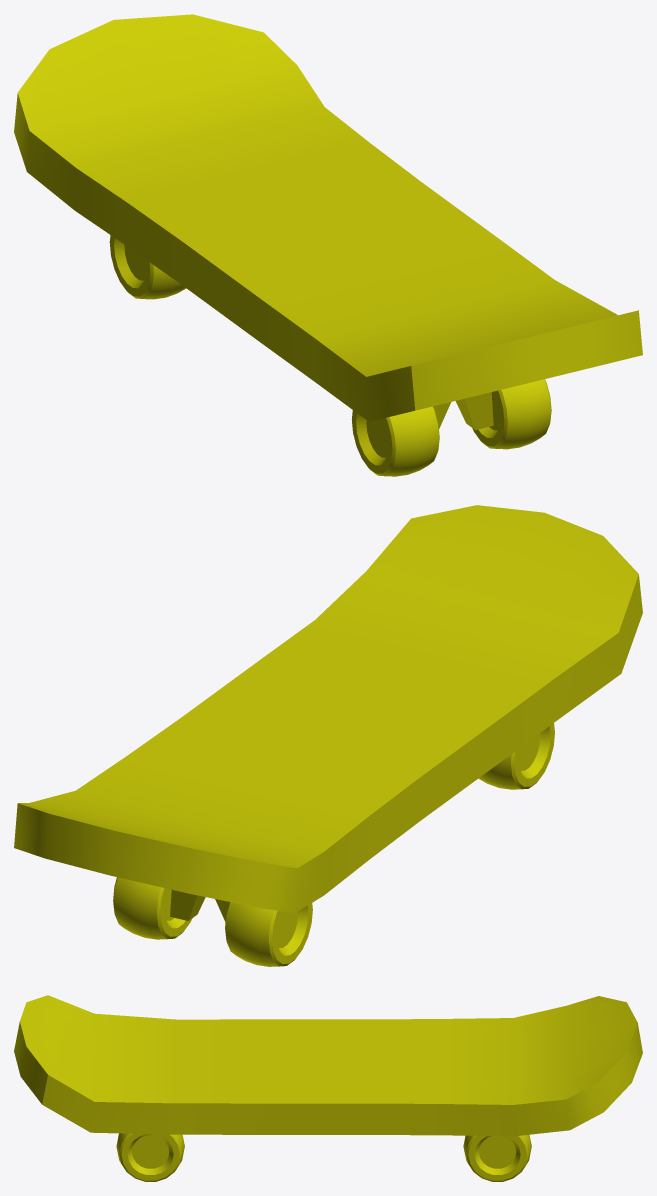
Rendered from mount_skateboard00.glb.
3 renders of one model, top to bottom at view 1: azimuth 30°, elevation 25°; view 2: azimuth 150°, elevation 25°; view 3: azimuth 270°, elevation 25°, orthographic. The views are drawn at different scales.
Parts seen in each view (by area): view 1: skateboard; view 2: skateboard; view 3: skateboard.
Part boxes in pixels (<box>): skateboard: <box>14,14,642,476</box>; skateboard: <box>14,505,642,966</box>; skateboard: <box>14,995,642,1181</box>.
Bounding box in the file's own units: 0.3258 × 0.2216 × 0.924.
1 material, 1 textured.
